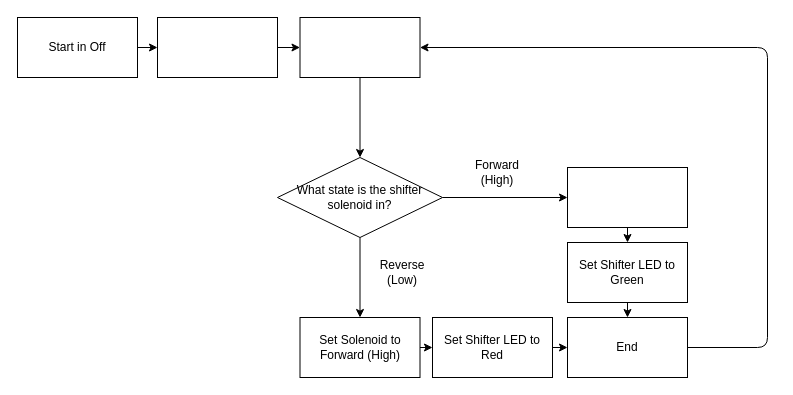
Some shapes in this 793 by 395 pixel diagram are drawn without their labels. The shapes that lost their labels are listed below. From the top down, each one's centre as x and y in pixels, then its label:
point (217, 47): Set to Reverse (Low)
point (359, 47): Toggle Button Pressed
point (627, 197): Set Solenoid to Reverse (Low)
